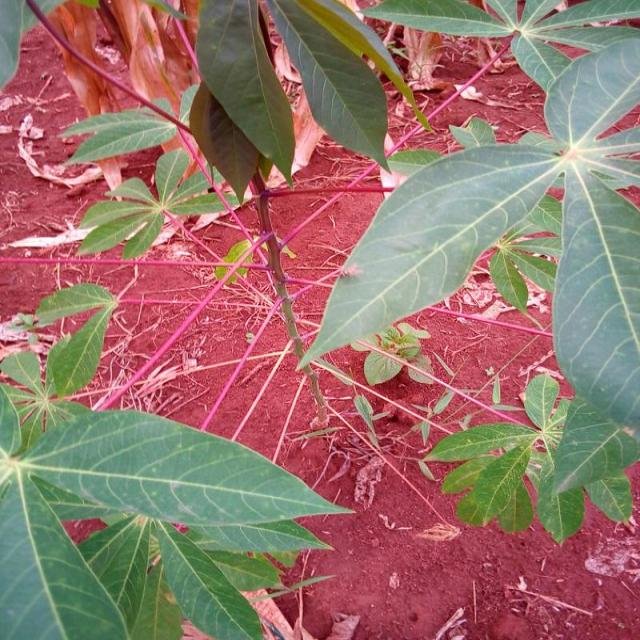cassava leaf: (296, 140, 564, 373), (19, 407, 357, 552), (552, 165, 640, 436), (195, 0, 297, 190)
